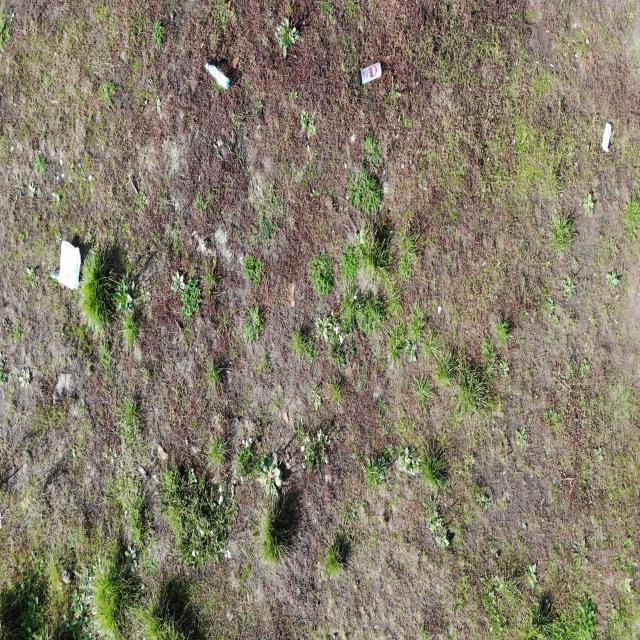rubbish: (58, 236, 81, 295), (204, 62, 230, 92), (356, 60, 384, 85), (601, 121, 612, 154), (49, 272, 68, 289)
